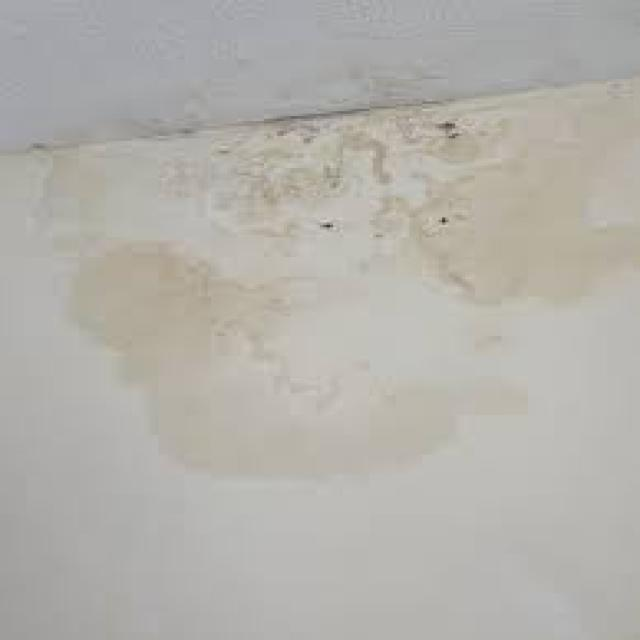stain_mould: (39, 83, 639, 492)
